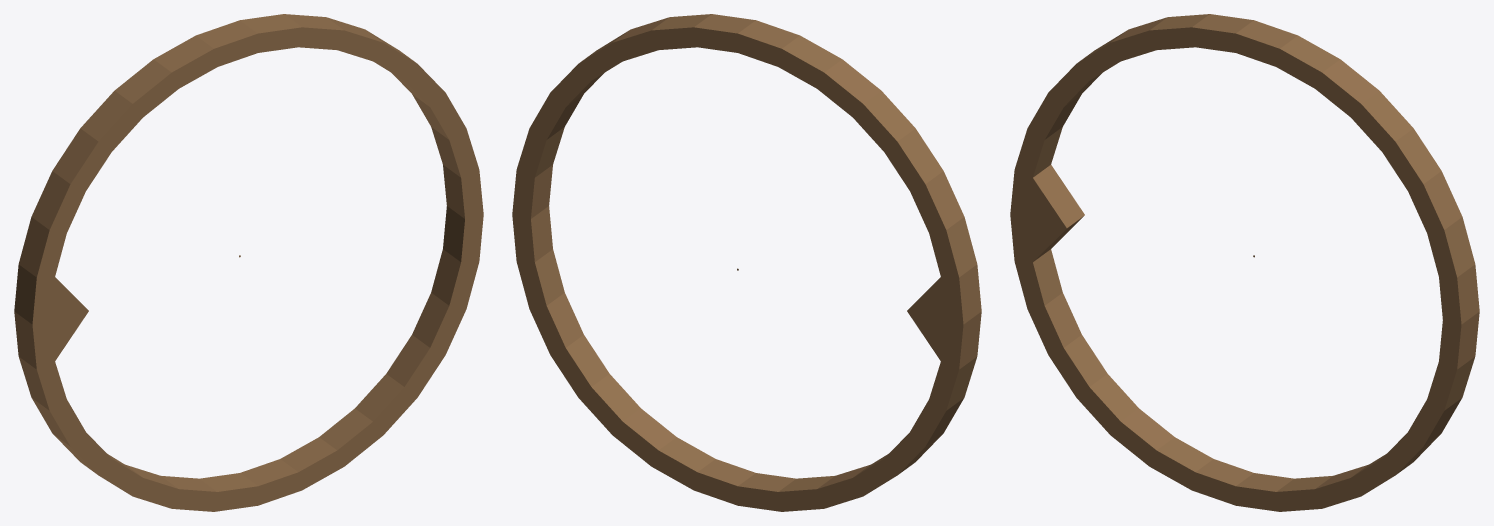
The model's file is Pointer.fbx.
The picture shows the model from 3 angles, left to right: view 1: azimuth 30°, elevation 25°; view 2: azimuth 150°, elevation 25°; view 3: azimuth 330°, elevation 25°; orthographic projection.
Parts seen in each view (by area): view 1: Pointer; view 2: Pointer; view 3: Pointer.
Part boxes in pixels (bbox=[...]): Pointer: bbox=[14, 14, 483, 511]; Pointer: bbox=[512, 14, 981, 511]; Pointer: bbox=[1010, 14, 1479, 511].
Bounding box in the file's own units: 213 × 213 × 14.94.
